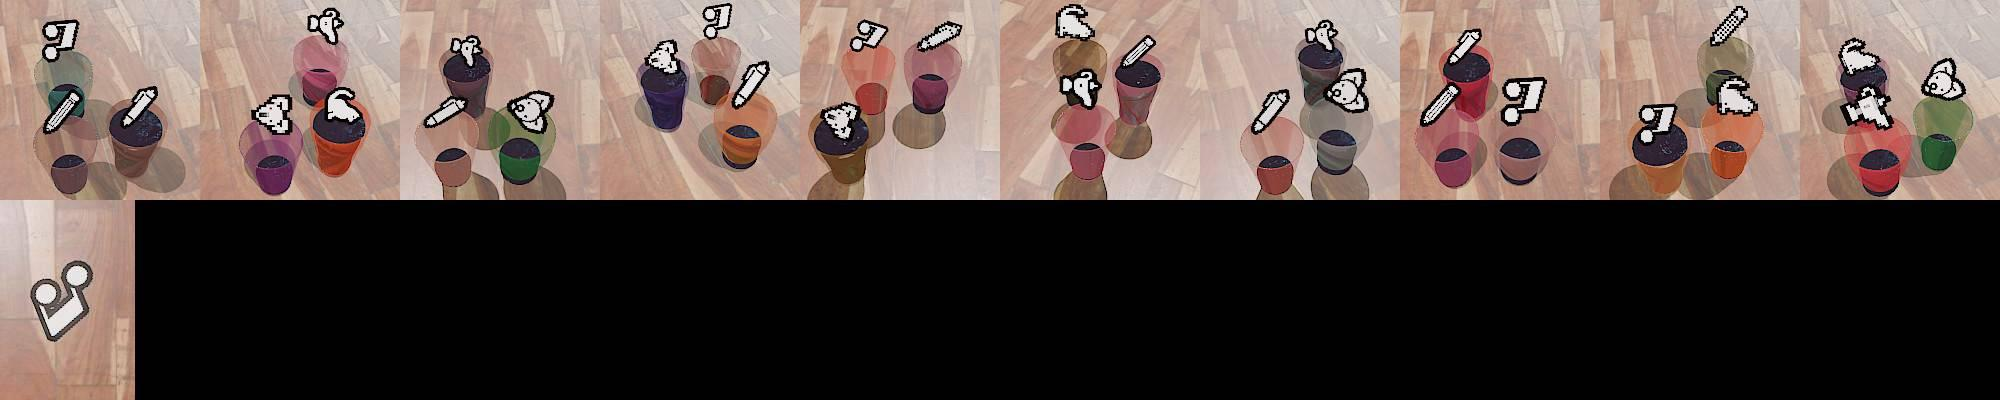icon: (29, 259, 97, 341), (1839, 85, 1895, 130), (1500, 75, 1548, 125), (1708, 75, 1760, 118), (1325, 66, 1370, 116), (508, 89, 555, 134), (731, 59, 770, 111), (1920, 57, 1966, 101), (42, 88, 83, 134), (250, 93, 293, 135), (1060, 66, 1102, 110), (1420, 82, 1459, 127), (1251, 89, 1290, 136), (40, 19, 80, 62), (1636, 102, 1680, 143), (120, 84, 159, 127), (1709, 4, 1749, 47), (915, 19, 963, 54), (1837, 37, 1880, 75), (323, 85, 364, 125), (1054, 3, 1094, 42), (820, 102, 861, 140), (306, 6, 344, 46), (1446, 27, 1483, 68), (422, 93, 466, 127), (1302, 18, 1341, 54), (1119, 34, 1157, 70), (644, 38, 680, 74), (449, 34, 485, 70), (851, 19, 889, 52), (702, 3, 733, 39)
